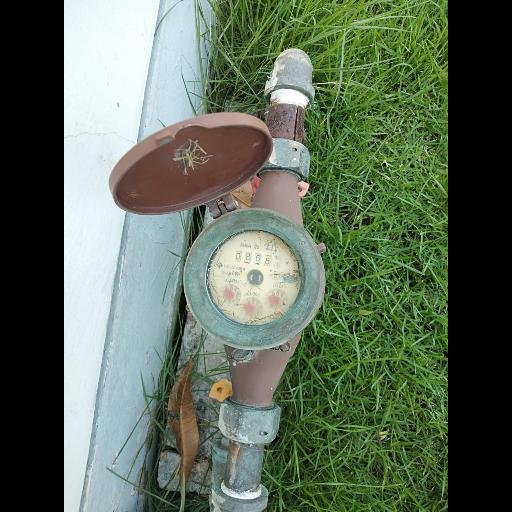0: (234, 250, 242, 263)
1: (274, 256, 282, 269)
6: (254, 253, 262, 266)
8: (244, 251, 252, 264), (263, 254, 271, 267)
border_water_meter_number: (234, 250, 282, 268)
